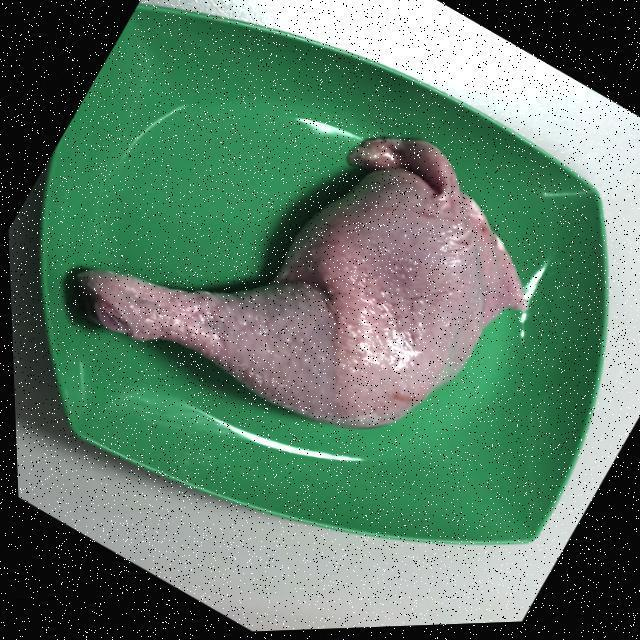quater: (68, 142, 518, 416)
